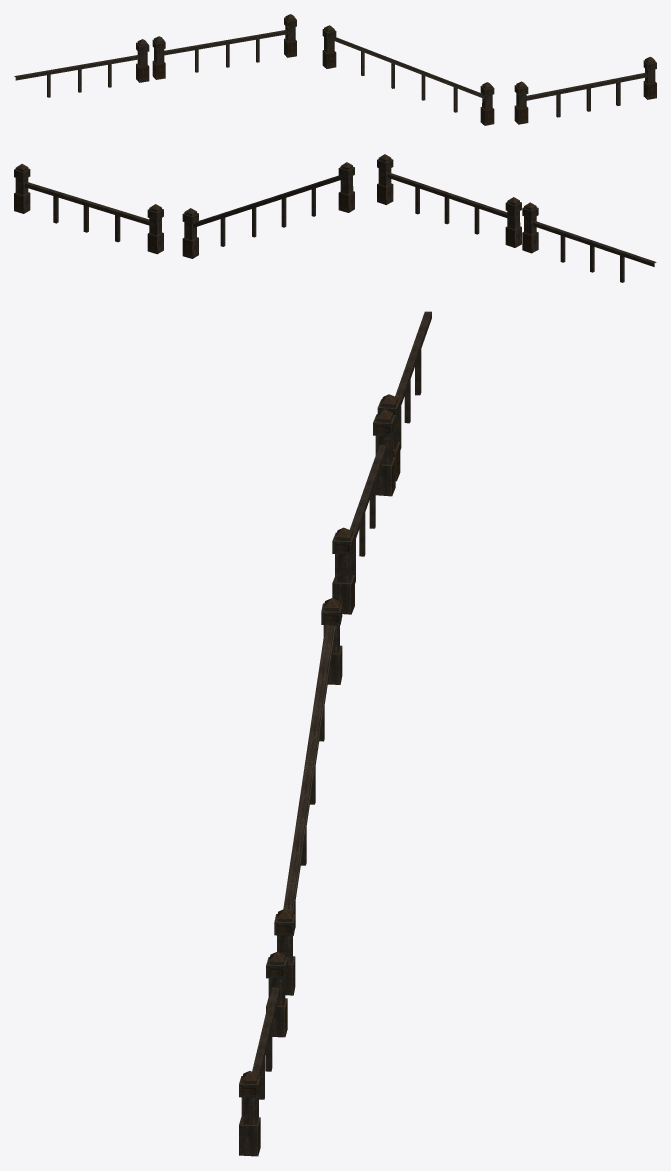
The model's file is rail_crack02.glb.
3 renders of one model, top to bottom at view 1: azimuth 30°, elevation 25°; view 2: azimuth 150°, elevation 25°; view 3: azimuth 270°, elevation 25°, orthographic. The views are drawn at different scales.
Visible parts, largest first — view 1: ship_rail_02; view 2: ship_rail_02; view 3: ship_rail_02.
Boxes of the visible parts, x1,y1,x2,y2 form: ship_rail_02: (14,14,656,125); ship_rail_02: (14,154,656,282); ship_rail_02: (239,311,431,1156).
Size of the model in its own units: 43.03 by 10.33 by 6.04.
Materials: 3 (3 with a texture image).
